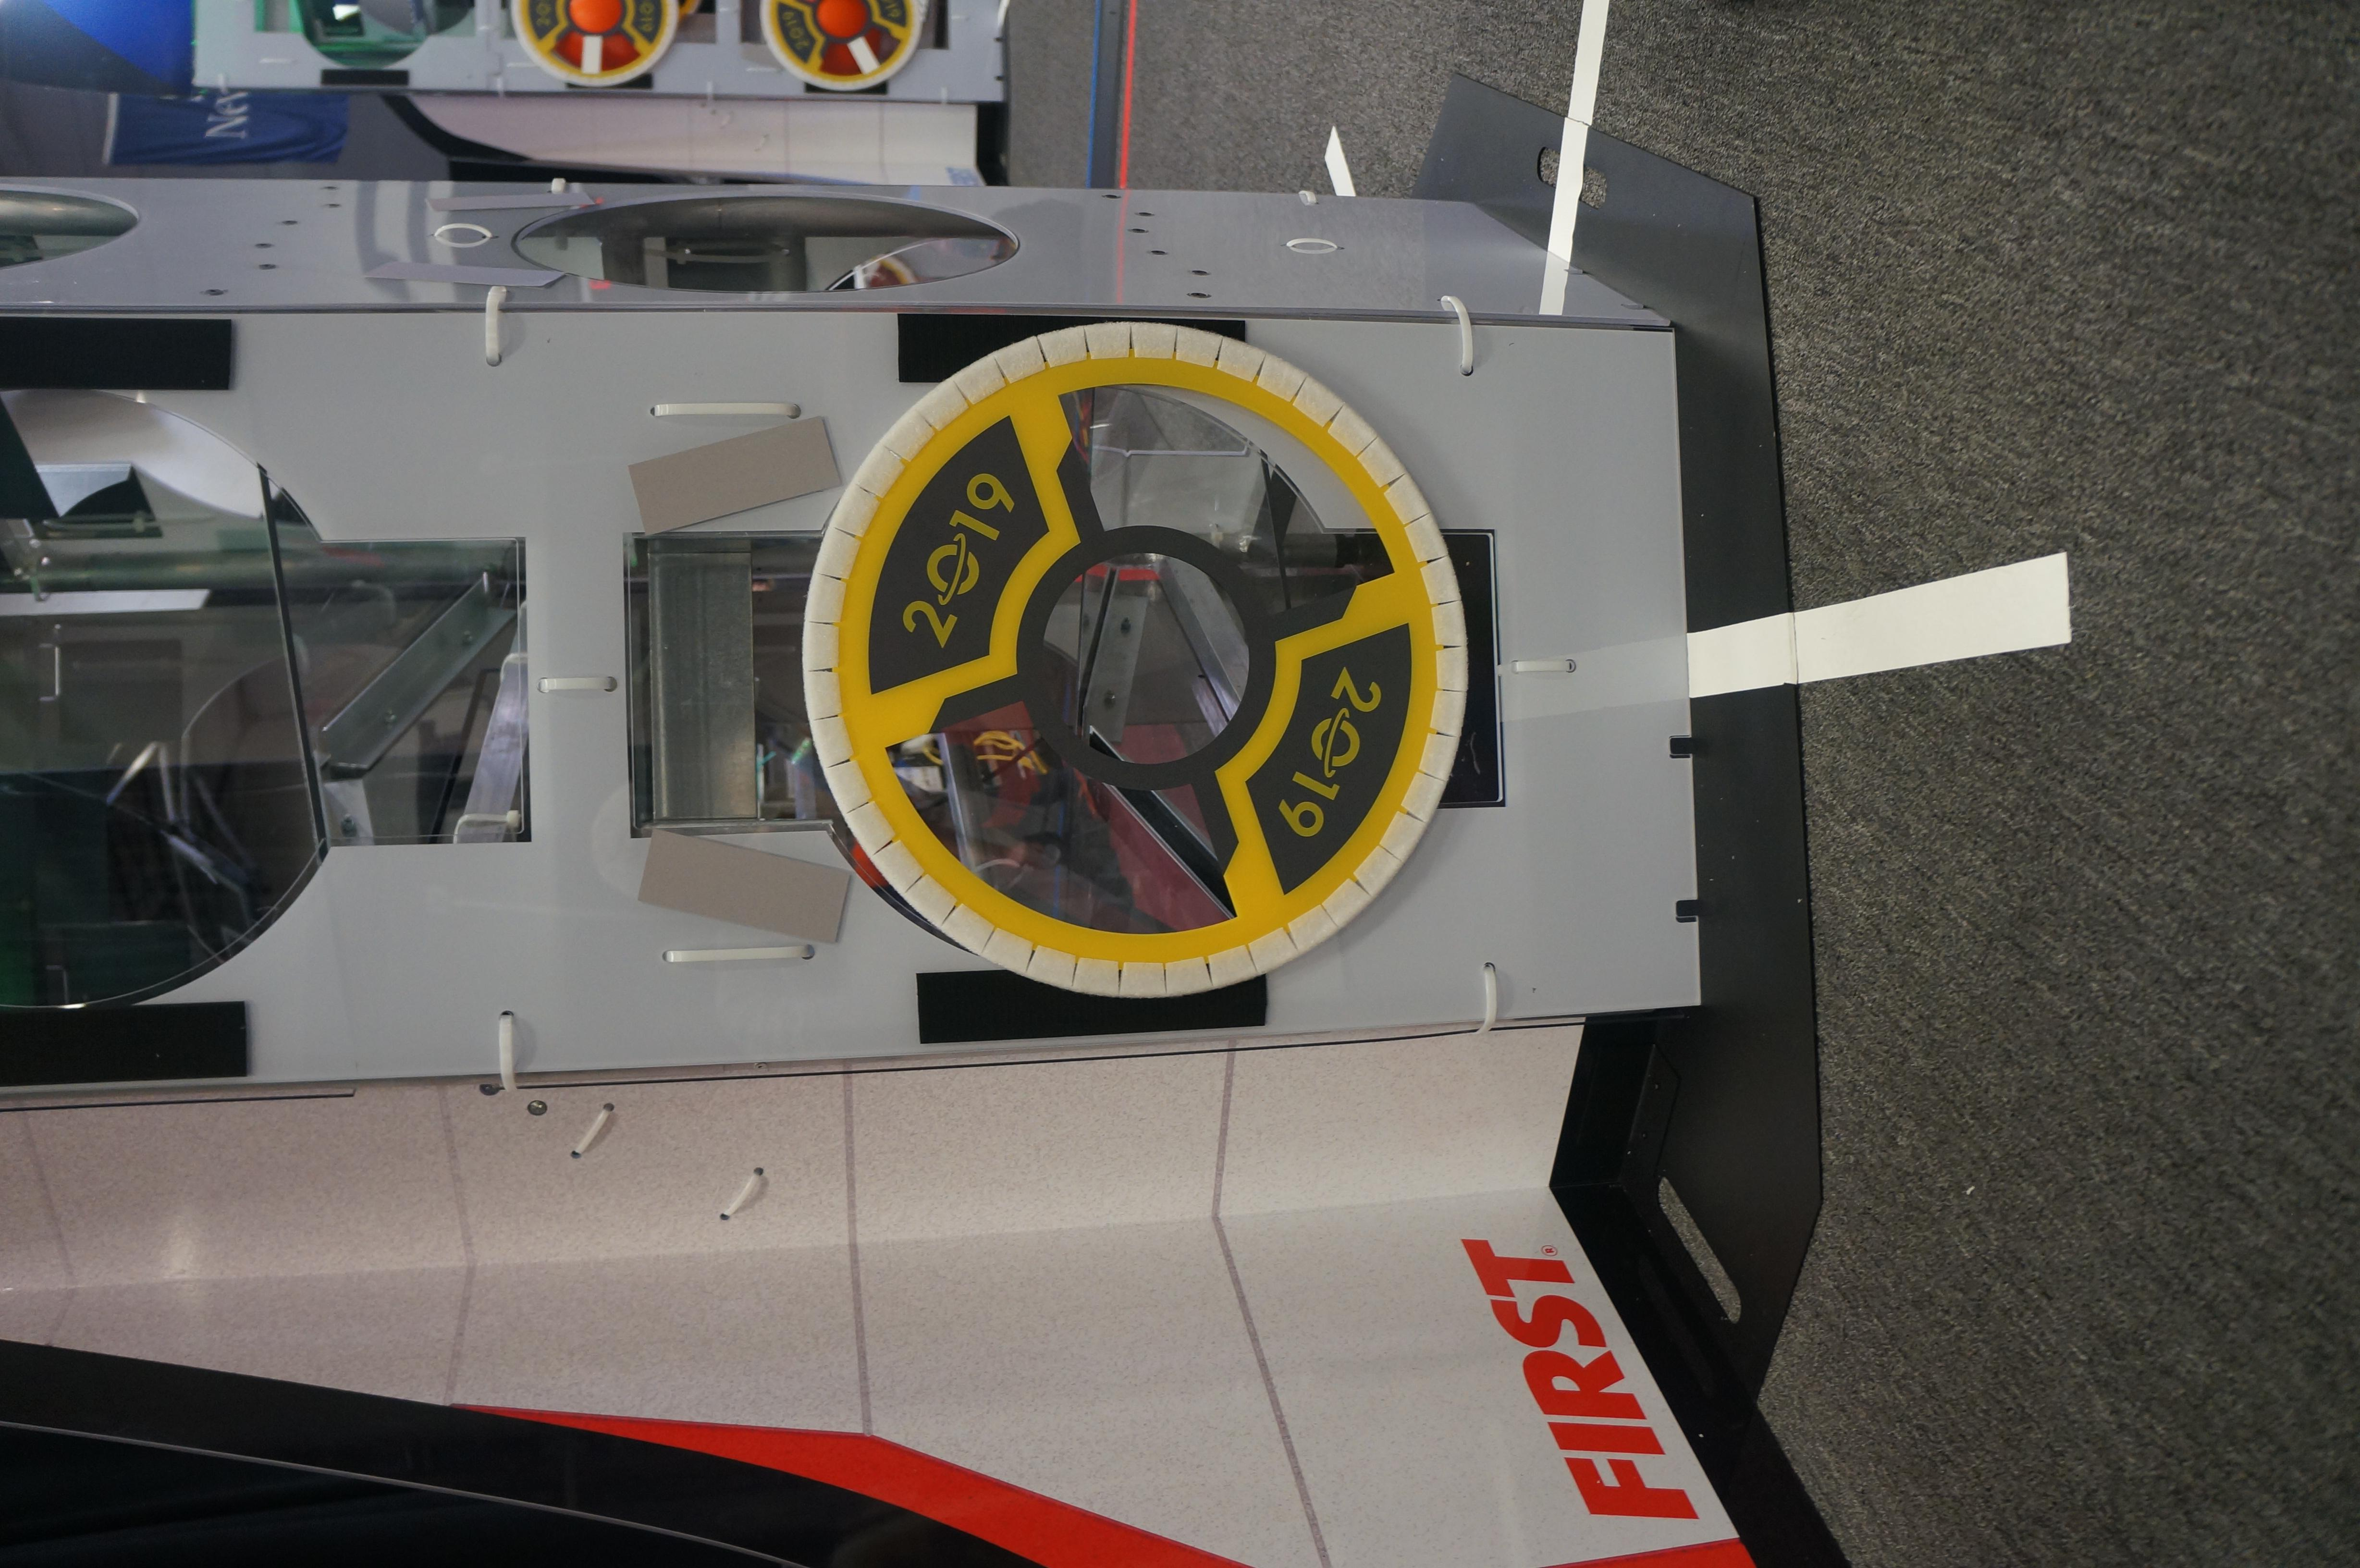Ball: (792, 0, 892, 75), (546, 0, 649, 66)
Hatch: (801, 324, 1470, 998), (509, 0, 679, 89), (759, 0, 925, 91)
Tape: (623, 411, 847, 539), (637, 826, 850, 943), (360, 254, 574, 289), (422, 189, 597, 215)
